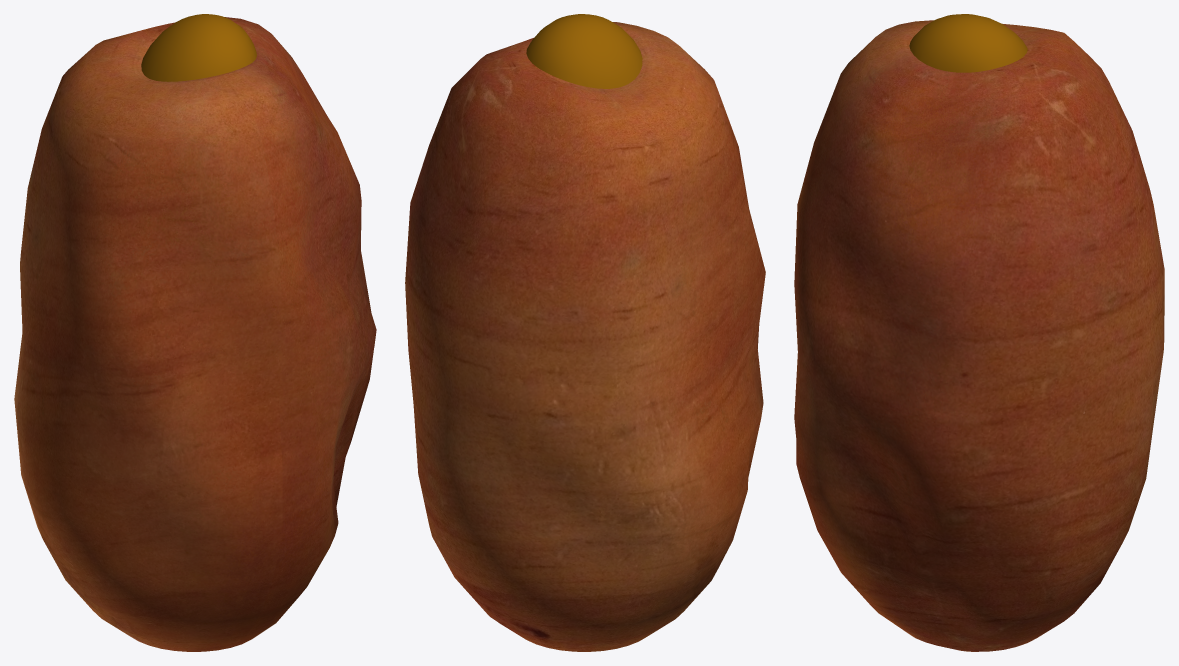
File: dates red high poly.FBX
3 renders of one model, left to right at view 1: azimuth 30°, elevation 25°; view 2: azimuth 150°, elevation 25°; view 3: azimuth 270°, elevation 25°, orthographic.
Parts seen in each view (by area): view 1: Sphere002; view 2: Sphere002; view 3: Sphere002.
Boxes of the visible parts, <box> form: Sphere002: <box>14,14,376,651</box>; Sphere002: <box>405,14,765,651</box>; Sphere002: <box>794,14,1164,651</box>.
Size of the model in its own units: 49.03 by 93.06 by 49.83.
